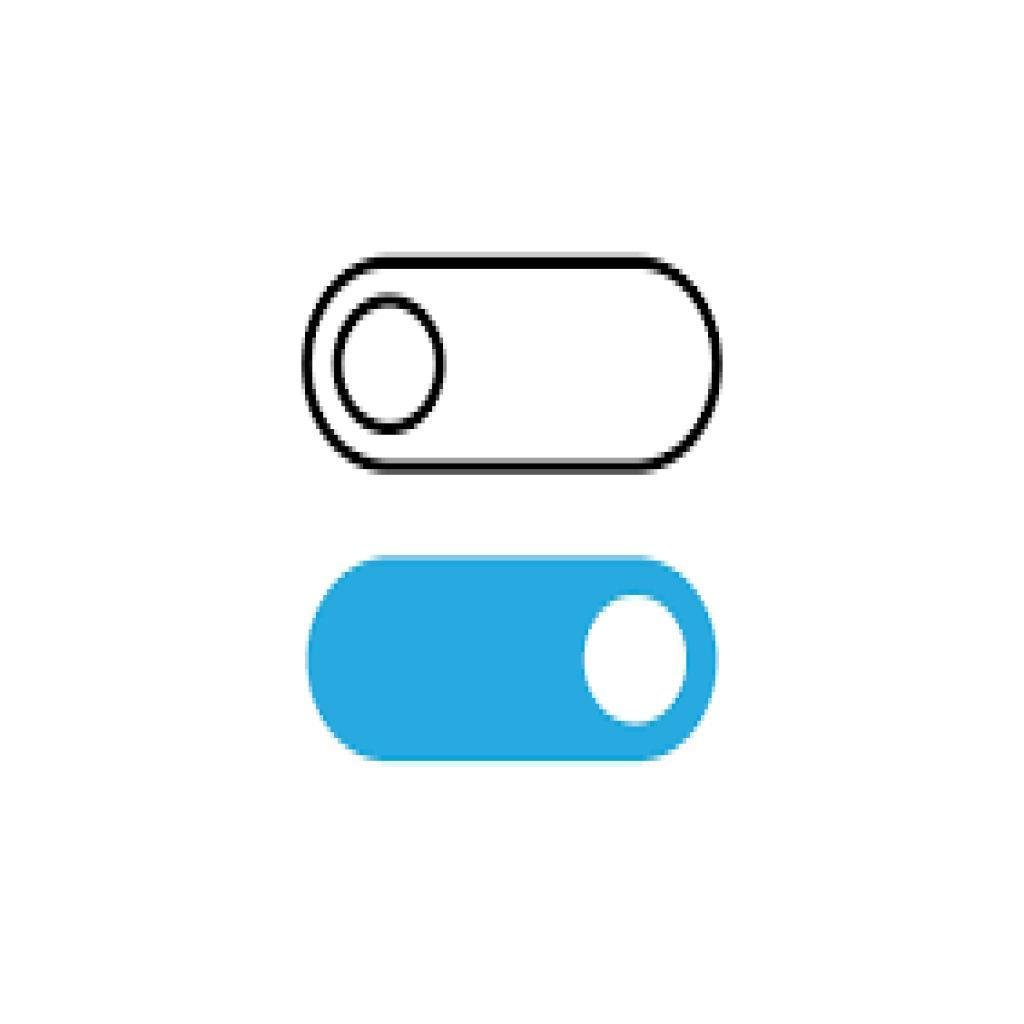switch: (298, 251, 725, 478), (308, 557, 722, 765)
